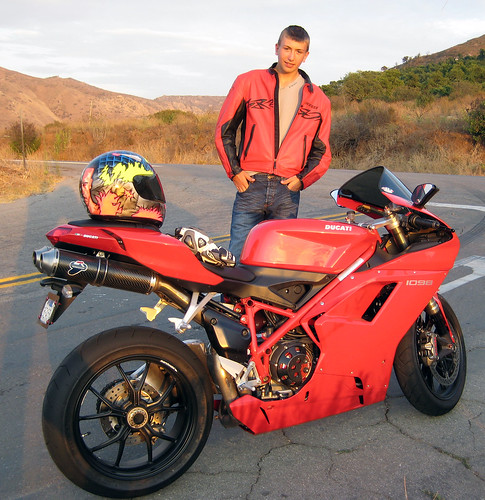helmet: (77, 142, 165, 230)
